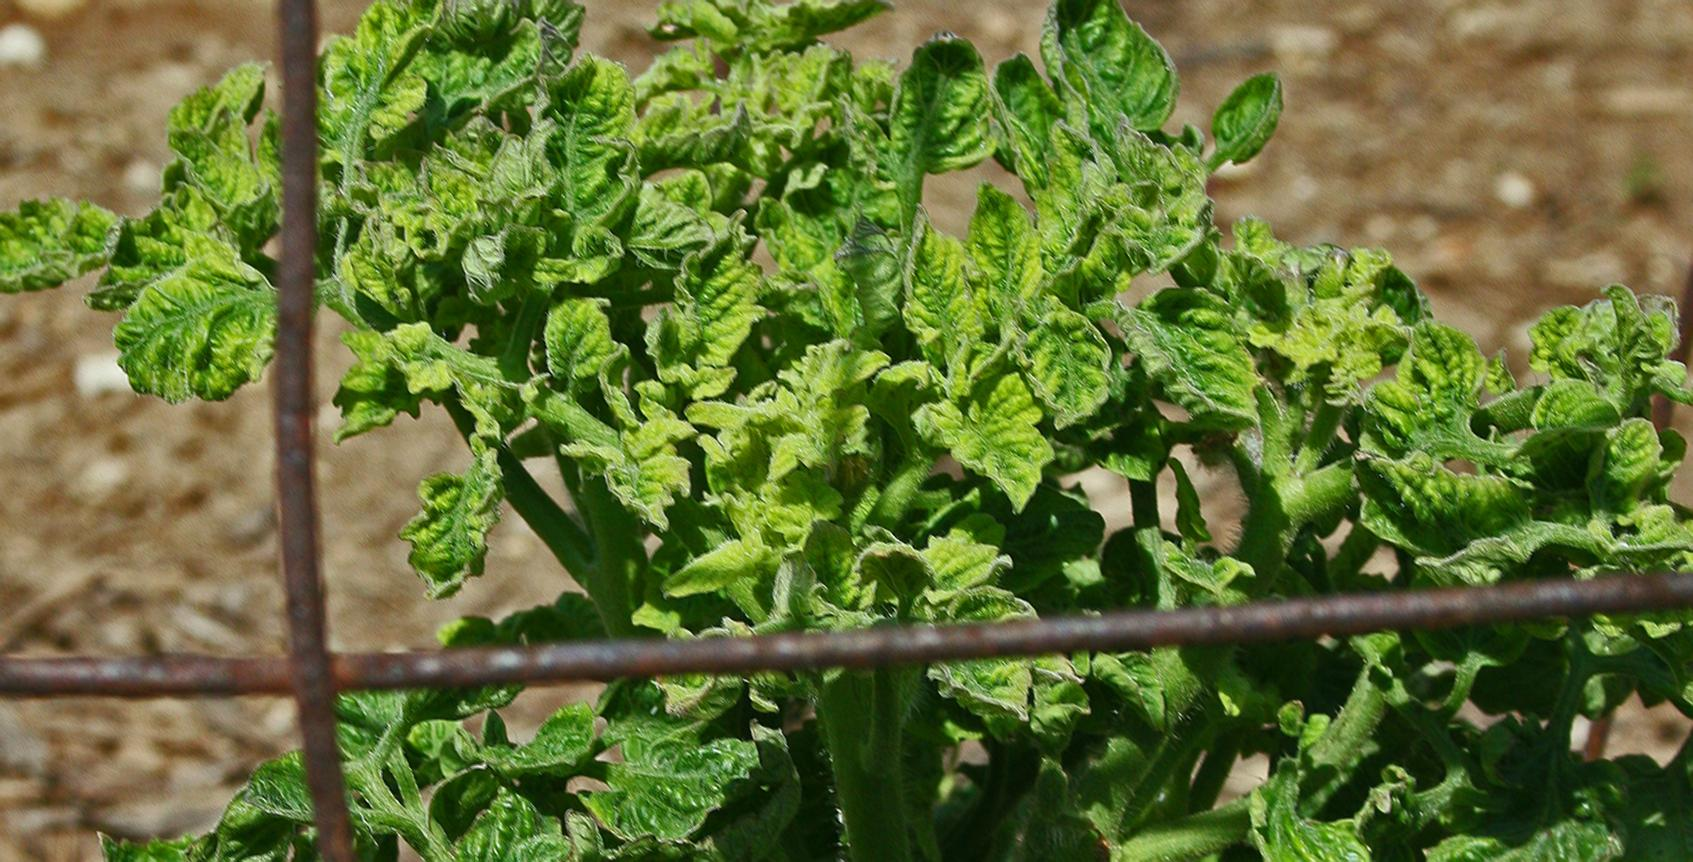Tomato leaf yellow virus: (105, 256, 290, 440), (549, 717, 771, 862), (1352, 447, 1584, 582), (852, 6, 1012, 191), (1008, 0, 1201, 153), (1105, 288, 1280, 443), (648, 211, 762, 431), (145, 84, 273, 256), (326, 0, 452, 172), (526, 54, 639, 244), (994, 272, 1122, 438), (396, 443, 512, 606), (922, 384, 1057, 524), (764, 339, 884, 494), (332, 317, 469, 438), (416, 758, 575, 862), (891, 225, 988, 392), (965, 157, 1043, 363), (0, 185, 122, 306), (852, 520, 1004, 612), (1252, 759, 1384, 862), (1380, 306, 1501, 407), (516, 297, 618, 398), (646, 538, 776, 608), (1516, 374, 1630, 444)
